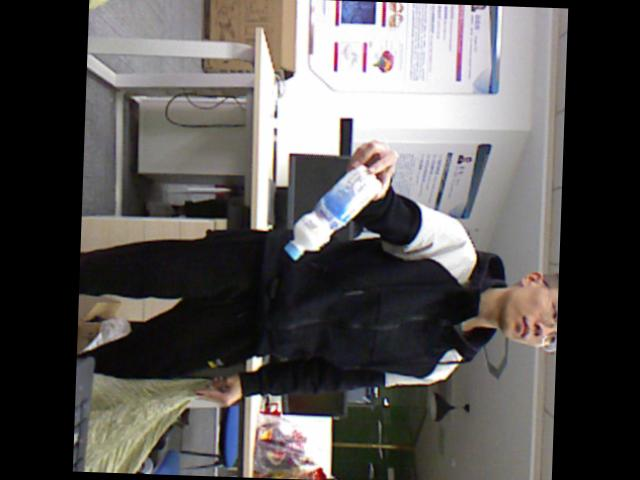cardboard paper: (205, 0, 295, 75)
plastic: (284, 164, 380, 259)
